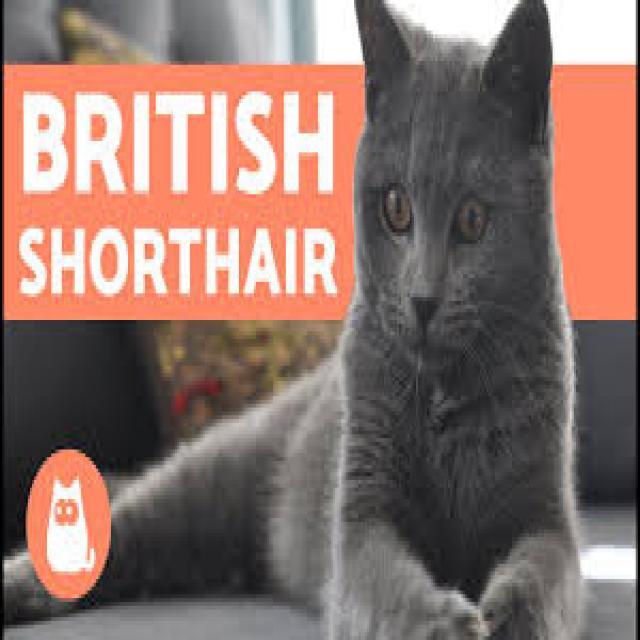Cat: (322, 2, 587, 640)
